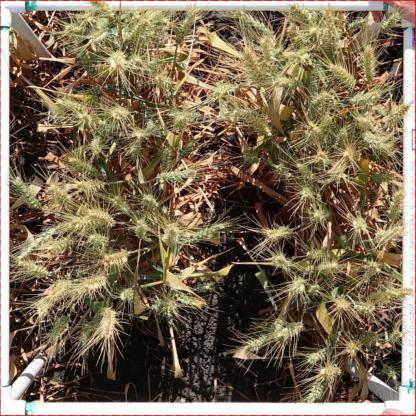whd: (20, 227, 55, 257), (244, 47, 268, 83), (240, 10, 270, 34), (176, 9, 197, 42), (14, 180, 40, 206), (385, 103, 412, 127), (73, 46, 94, 72), (330, 65, 353, 88), (51, 314, 71, 340), (308, 376, 328, 402), (192, 224, 222, 241), (102, 306, 117, 339), (45, 280, 70, 299), (92, 2, 116, 20), (71, 157, 94, 175), (291, 4, 312, 23), (252, 113, 270, 135), (390, 190, 404, 218), (324, 8, 338, 36), (20, 262, 48, 276), (127, 19, 146, 39), (102, 251, 127, 266), (309, 91, 326, 112), (160, 169, 192, 180), (381, 12, 399, 31), (50, 236, 74, 250), (163, 223, 179, 244), (246, 336, 270, 350), (381, 226, 402, 242), (354, 90, 378, 104), (364, 46, 374, 78), (90, 211, 112, 225), (57, 99, 84, 110), (366, 293, 390, 305), (48, 184, 67, 199), (267, 228, 290, 240), (260, 36, 272, 59), (83, 276, 105, 288), (364, 131, 381, 146), (169, 112, 204, 119), (214, 84, 236, 95), (78, 180, 102, 190), (385, 284, 403, 297), (112, 196, 128, 210), (306, 123, 322, 137), (284, 90, 300, 104), (320, 366, 342, 376), (347, 18, 365, 30), (309, 348, 324, 362), (111, 52, 123, 69), (317, 262, 335, 273), (278, 79, 300, 88), (325, 38, 334, 60), (297, 163, 311, 177), (362, 332, 377, 345), (288, 322, 304, 334), (287, 22, 299, 38), (96, 121, 110, 134), (159, 308, 172, 322), (352, 218, 366, 231), (233, 108, 251, 118), (175, 292, 191, 303), (396, 286, 412, 297), (335, 128, 344, 147), (241, 19, 250, 38), (83, 87, 100, 97), (136, 221, 146, 238), (308, 250, 325, 260), (383, 365, 396, 378), (157, 74, 170, 87), (293, 278, 305, 292), (113, 107, 128, 118), (91, 235, 109, 244), (120, 288, 133, 300), (273, 254, 286, 266), (356, 115, 368, 128), (297, 30, 310, 42), (180, 142, 191, 156), (273, 317, 284, 331), (278, 224, 292, 235), (42, 283, 56, 294), (78, 328, 89, 342), (132, 128, 147, 138), (66, 24, 84, 32), (52, 108, 64, 120), (144, 194, 156, 206), (37, 302, 49, 314), (152, 298, 164, 310), (356, 302, 374, 310), (346, 341, 358, 353), (321, 114, 333, 126), (374, 228, 386, 240), (92, 138, 102, 152), (371, 174, 391, 181), (81, 321, 96, 330), (275, 327, 287, 338), (174, 117, 186, 128), (144, 108, 154, 121), (196, 284, 212, 292), (74, 285, 90, 293), (163, 148, 170, 166), (133, 57, 144, 68), (245, 151, 256, 162), (96, 18, 108, 28), (369, 262, 379, 274), (389, 332, 401, 342), (302, 186, 312, 198), (278, 164, 288, 176), (310, 26, 322, 36), (121, 27, 130, 40), (80, 113, 91, 123), (164, 297, 174, 308), (147, 58, 156, 70), (295, 51, 307, 60), (146, 118, 155, 130), (314, 210, 324, 220), (93, 245, 104, 254), (96, 31, 107, 40), (146, 22, 154, 34), (72, 218, 84, 226), (334, 169, 346, 177), (337, 298, 346, 308), (318, 151, 326, 162), (130, 145, 139, 154), (160, 18, 169, 27), (310, 284, 318, 294), (344, 147, 352, 157), (75, 13, 83, 23), (340, 236, 347, 247), (329, 96, 336, 107), (83, 13, 91, 22), (92, 30, 101, 38), (132, 10, 141, 18), (370, 188, 375, 202), (80, 206, 87, 215), (275, 46, 280, 58), (382, 142, 392, 148), (326, 128, 334, 135), (323, 92, 330, 100), (161, 205, 168, 213), (321, 19, 328, 26), (369, 117, 375, 125), (333, 16, 339, 22), (66, 194, 72, 200)
